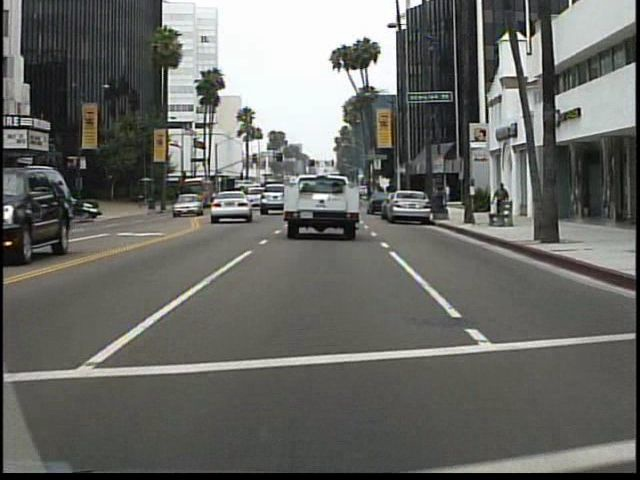person: (491, 181, 511, 222), (138, 189, 148, 214)
